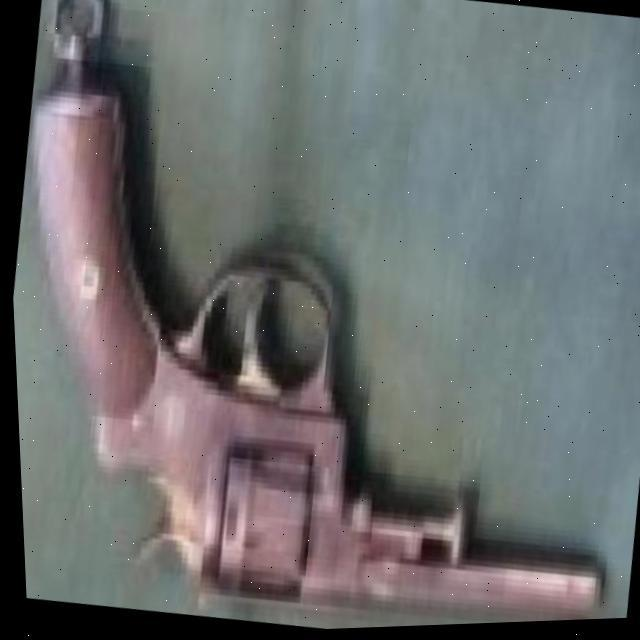gun: (3, 60, 640, 640)
